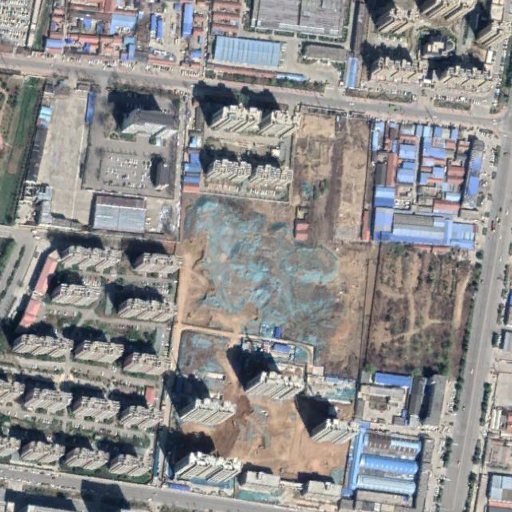cw: (172, 186, 377, 494)
